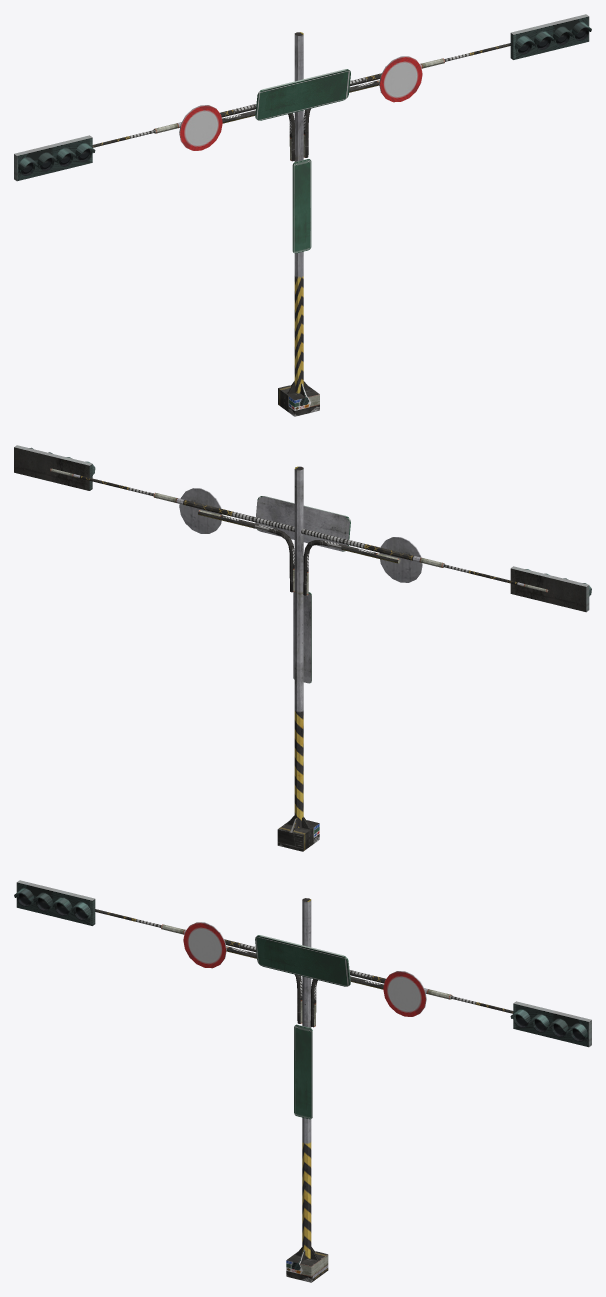
File: traffic1.glb
The picture shows the model from 3 angles, top to bottom: view 1: azimuth 30°, elevation 25°; view 2: azimuth 150°, elevation 25°; view 3: azimuth 330°, elevation 25°; orthographic projection.
Parts seen in each view (by area): view 1: m_light1, m_light1_1; view 2: m_light1, m_light1_1; view 3: m_light1, m_light1_1.
Boxes of the visible parts, <box> form: m_light1: <box>14,14,591,393</box>; m_light1_1: <box>92,43,510,416</box>; m_light1: <box>14,445,591,827</box>; m_light1_1: <box>50,468,548,851</box>; m_light1: <box>14,880,591,1259</box>; m_light1_1: <box>95,909,513,1282</box>.
Bounding box in the file's own units: 274 × 171 × 14.74.
1 material, 1 textured.
